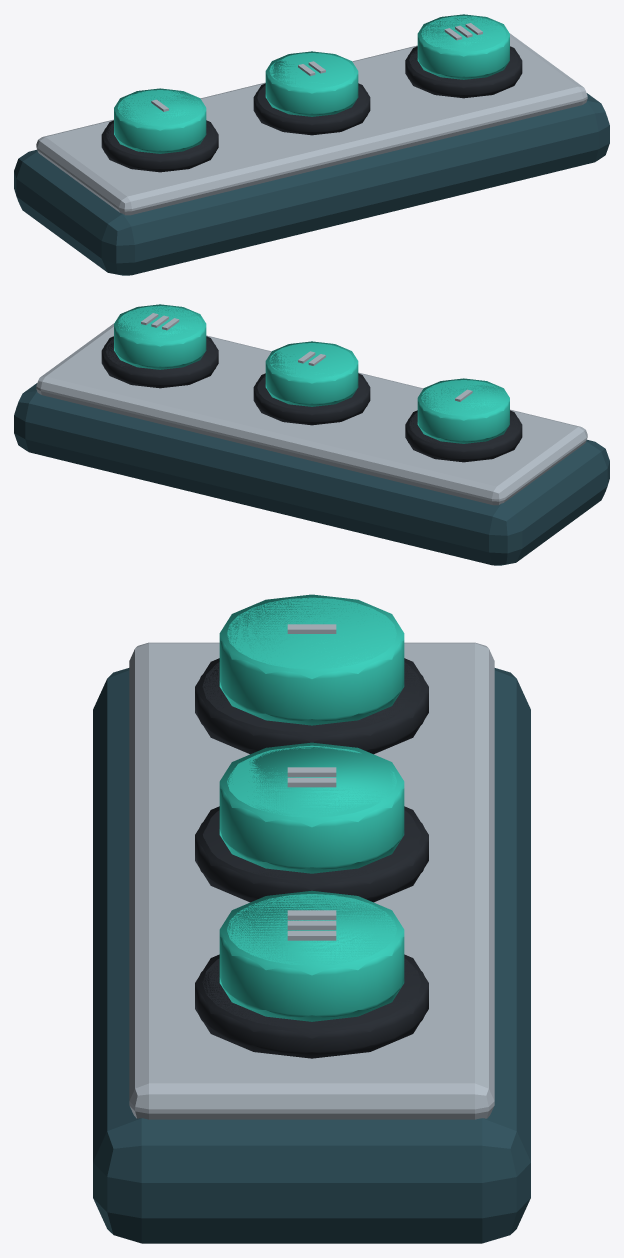
Rendered from panel-select-three.glb.
The picture shows the model from 3 angles, top to bottom: view 1: azimuth 30°, elevation 25°; view 2: azimuth 150°, elevation 25°; view 3: azimuth 270°, elevation 25°; orthographic projection. The views are drawn at different scales.
Parts seen in each view (by area): view 1: panel_shell, panel_face, select_1, select_2, select_3, socket2, socket3, socket1, select_1.001, select_3.001, select_2.001, socket1.001 (+2 smaller); view 2: panel_shell, panel_face, select_1, select_2, select_3, socket1, socket2, select_1.001, socket3, select_3.001, socket3.001, select_2.001 (+2 smaller); view 3: panel_face, panel_shell, select_1, select_3, select_2, select_2.001, select_3.001, socket3, socket2, socket1, select_1.001, socket3.001 (+2 smaller).
Part boxes in pixels (box(x1,y1,x2,y2)): panel_shell: box(14, 93, 609, 275); panel_face: box(36, 33, 587, 215); select_1: box(114, 90, 206, 151); select_2: box(265, 53, 358, 114); select_3: box(417, 16, 509, 77); socket2: box(253, 85, 370, 133); socket3: box(405, 48, 522, 96); socket1: box(101, 122, 218, 170); select_1.001: box(114, 88, 206, 153); select_3.001: box(417, 14, 509, 79); select_2.001: box(265, 51, 358, 116); socket1.001: box(101, 120, 218, 172); panel_shell: box(14, 383, 609, 565); panel_face: box(36, 323, 587, 505); select_1: box(417, 380, 509, 441); select_2: box(265, 343, 358, 404); select_3: box(114, 306, 206, 367); socket1: box(405, 412, 522, 460); socket2: box(253, 375, 370, 423); select_1.001: box(417, 378, 509, 443); socket3: box(101, 338, 218, 386); select_3.001: box(114, 304, 206, 369); socket3.001: box(101, 336, 218, 388); select_2.001: box(265, 341, 358, 406); panel_face: box(129, 642, 494, 1119); panel_shell: box(93, 668, 530, 1243); select_1: box(219, 597, 404, 721); select_3: box(219, 894, 404, 1017); select_2: box(219, 745, 404, 869); select_2.001: box(219, 742, 404, 873); select_3.001: box(219, 890, 404, 1021); socket3: box(195, 958, 428, 1054); socket2: box(195, 810, 428, 898); socket1: box(195, 662, 428, 750); select_1.001: box(219, 594, 404, 725); socket3.001: box(195, 954, 428, 1058).
Size of the model in its own units: 0.24 by 0.0545 by 0.09.
